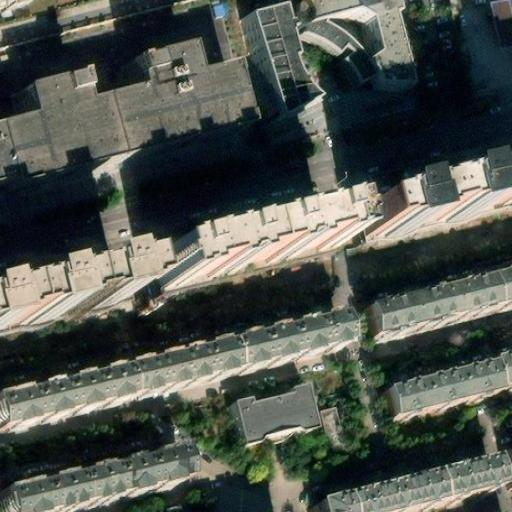building: (89, 22, 243, 169), (254, 0, 416, 108), (0, 82, 107, 195), (0, 452, 188, 512), (363, 179, 512, 245), (361, 283, 488, 345), (7, 264, 136, 325), (226, 319, 344, 381), (121, 346, 235, 407), (388, 371, 501, 428), (235, 381, 320, 445), (156, 240, 251, 297), (243, 218, 342, 271), (344, 481, 441, 512), (434, 467, 495, 508), (480, 274, 512, 315), (490, 0, 512, 50), (53, 271, 90, 289), (494, 366, 512, 401), (60, 302, 97, 319), (1, 317, 37, 334), (0, 286, 29, 303), (114, 261, 131, 274), (124, 291, 138, 303)
